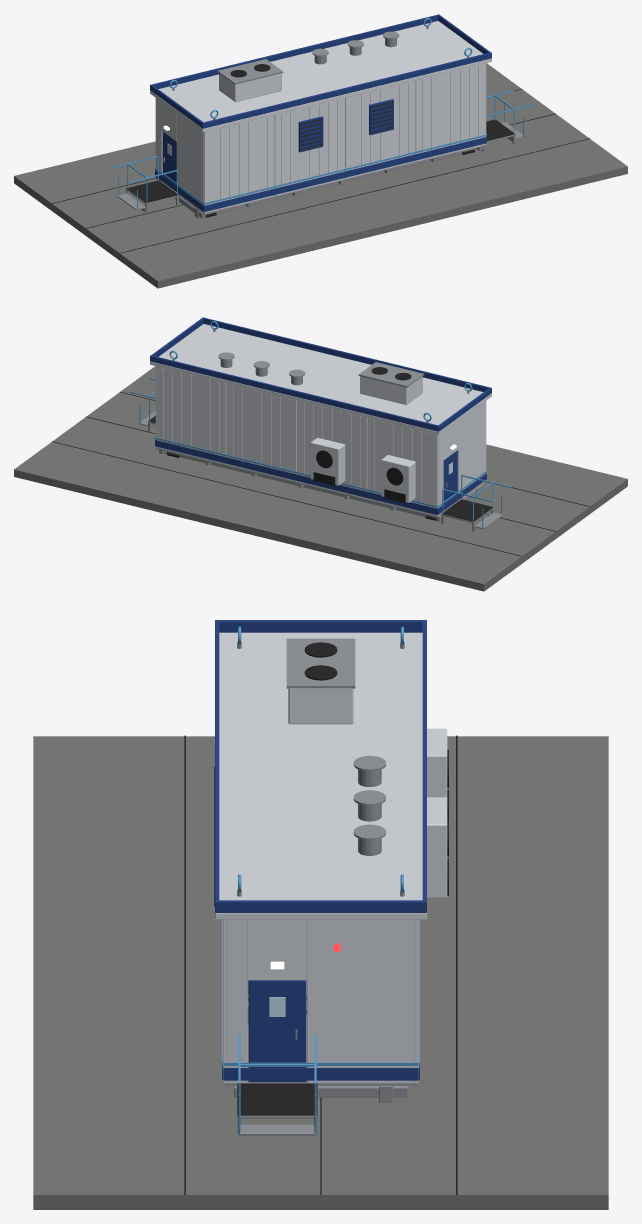
The model's file is ehouse.glb.
The picture shows the model from 3 angles, top to bottom: view 1: azimuth 30°, elevation 25°; view 2: azimuth 150°, elevation 25°; view 3: azimuth 270°, elevation 25°; orthographic projection. The views are drawn at different scales.
Visible parts, largest first — view 1: Pad, Roof_Slab, Wall_-1_-4.5, Wall_-1_4.5, Wall_-1_1.5, Wall_-1_-1.5, EndWall_Rear_A, Parapet_S, Band_-1, Parapet_N, Roof_HVAC, Roof_HVAC_Cap (+13 smaller); view 2: Pad, Roof_Slab, Wall_1_4.5, Wall_1_1.5, Wall_1_-4.5, Wall_1_-1.5, EndWall_Rear_A, Parapet_N, Band_1, Parapet_S, Roof_HVAC, HVAC_Wall_1 (+11 smaller); view 3: Pad, Roof_Slab, EndWall_Front_B, Door_Front, EndWall_Front_Header, EndWall_Front_A, Roof_HVAC_Cap, Parapet_E, Parapet_W, Landing_Grip_Front, Band_Front, Roof_HVAC (+8 smaller).
Boxes of the visible parts, left/top/right/bottom form: Pad: left=14, top=63, right=627, bottom=288; Roof_Slab: left=150, top=21, right=491, bottom=131; Wall_-1_-4.5: left=203, top=115, right=274, bottom=213; Wall_-1_4.5: left=415, top=63, right=486, bottom=161; Wall_-1_1.5: left=345, top=80, right=415, bottom=178; Wall_-1_-1.5: left=274, top=97, right=344, bottom=196; EndWall_Rear_A: left=176, top=113, right=203, bottom=212; Parapet_S: left=202, top=52, right=491, bottom=128; Band_-1: left=204, top=137, right=486, bottom=211; Parapet_N: left=150, top=14, right=438, bottom=88; Roof_HVAC: left=219, top=73, right=281, bottom=102; Roof_HVAC_Cap: left=217, top=59, right=283, bottom=84; Pad: left=14, top=366, right=627, bottom=591; Roof_Slab: left=150, top=324, right=491, bottom=434; Wall_1_4.5: left=155, top=366, right=226, bottom=464; Wall_1_1.5: left=226, top=383, right=296, bottom=481; Wall_1_-4.5: left=367, top=418, right=438, bottom=516; Wall_1_-1.5: left=297, top=400, right=367, bottom=499; EndWall_Rear_A: left=457, top=401, right=485, bottom=500; Parapet_N: left=150, top=355, right=439, bottom=431; Band_1: left=155, top=440, right=437, bottom=514; Parapet_S: left=203, top=317, right=491, bottom=392; Roof_HVAC: left=360, top=376, right=422, bottom=405; HVAC_Wall_1: left=310, top=437, right=345, bottom=485; Pad: left=33, top=736, right=608, bottom=1209; Roof_Slab: left=215, top=632, right=426, bottom=919; EndWall_Front_B: left=307, top=919, right=414, bottom=1083; Door_Front: left=248, top=980, right=306, bottom=1081; EndWall_Front_Header: left=247, top=919, right=307, bottom=980; EndWall_Front_A: left=227, top=919, right=247, bottom=1083; Roof_HVAC_Cap: left=286, top=638, right=355, bottom=688; Parapet_E: left=215, top=900, right=426, bottom=912; Parapet_W: left=215, top=620, right=425, bottom=632; Landing_Grip_Front: left=237, top=1083, right=317, bottom=1115; Band_Front: left=223, top=1068, right=418, bottom=1080; Roof_HVAC: left=288, top=688, right=353, bottom=724.
Size of what is drawn, in the model's own units: 20 by 5.1 by 10.6.
